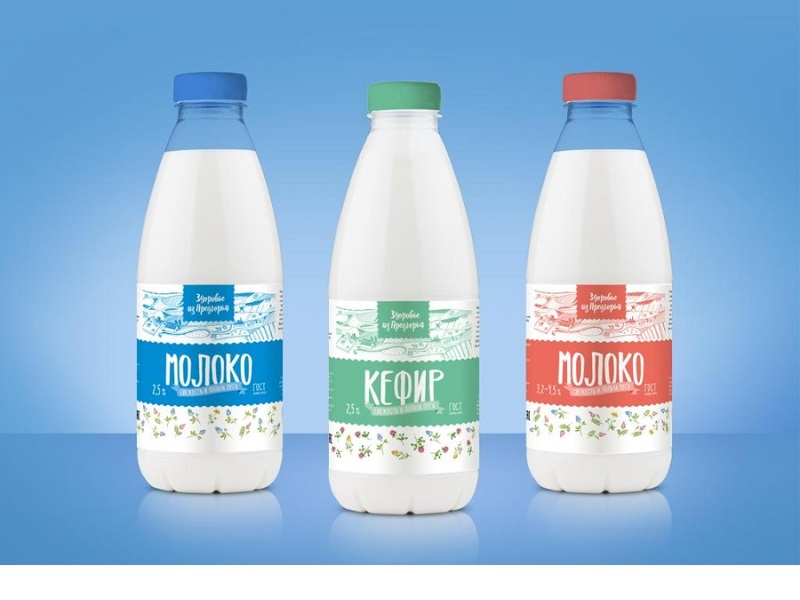milk: (508, 64, 685, 506), (316, 77, 485, 527), (134, 62, 299, 504)
